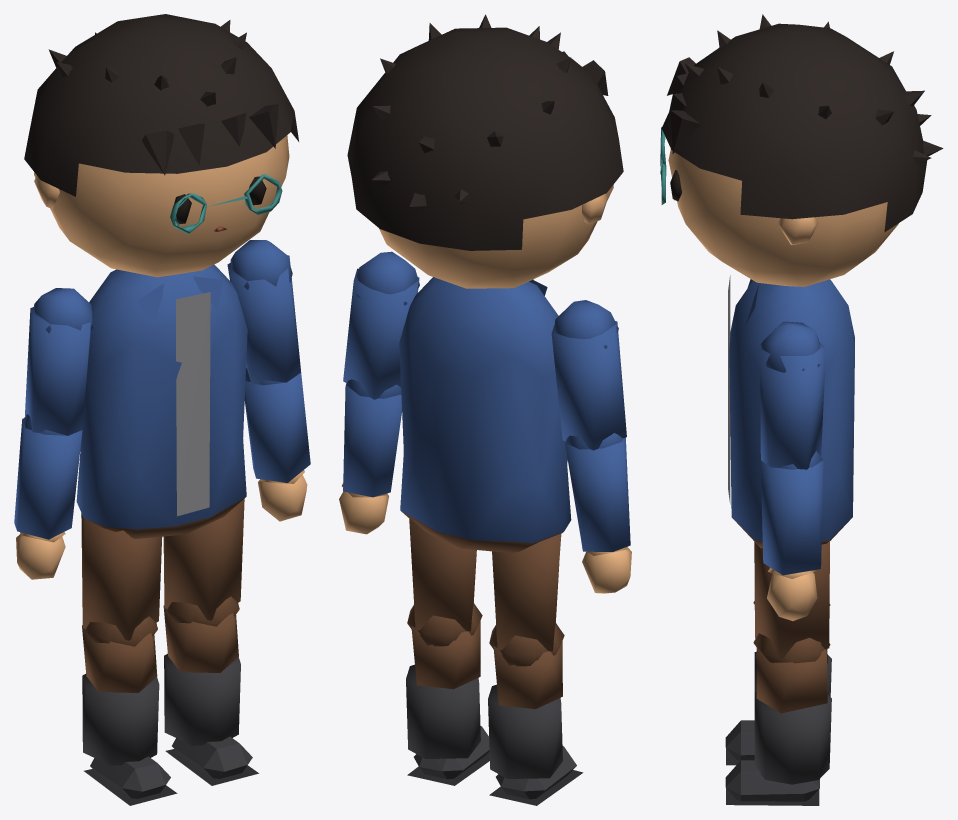
The model's file is era5_engineer.glb.
3 views of the same model, side by side, from view 1: azimuth 30°, elevation 25°; view 2: azimuth 150°, elevation 25°; view 3: azimuth 270°, elevation 25° (orthographic).
Parts seen in each view (by area): view 1: head, body, shin_R, shin_L, arm_R, leg_R, forearm_R, arm_L, leg_L, forearm_L; view 2: head, body, shin_R, shin_L, arm_R, arm_L, forearm_R, leg_R, forearm_L, leg_L; view 3: head, body, shin_L, arm_L, forearm_L, leg_L, shin_R.
Boxes of the visible parts, left/top/right/bottom form: head: left=24, top=14, right=298, bottom=277; body: left=76, top=264, right=247, bottom=538; shin_R: left=82, top=618, right=177, bottom=805; shin_L: left=163, top=598, right=258, bottom=785; arm_R: left=23, top=288, right=92, bottom=435; leg_R: left=81, top=513, right=162, bottom=643; forearm_R: left=14, top=418, right=82, bottom=579; arm_L: left=227, top=240, right=300, bottom=385; leg_L: left=163, top=498, right=244, bottom=623; forearm_L: left=244, top=372, right=310, bottom=521; head: left=347, top=14, right=623, bottom=288; body: left=399, top=277, right=571, bottom=552; shin_R: left=488, top=623, right=583, bottom=805; shin_L: left=406, top=602, right=489, bottom=785; arm_R: left=551, top=300, right=626, bottom=450; arm_L: left=343, top=251, right=419, bottom=399; forearm_R: left=565, top=437, right=631, bottom=593; leg_R: left=489, top=533, right=564, bottom=666; forearm_L: left=339, top=383, right=401, bottom=534; leg_L: left=407, top=517, right=482, bottom=646; head: left=660, top=14, right=943, bottom=286; body: left=728, top=275, right=854, bottom=548; shin_L: left=725, top=640, right=831, bottom=805; arm_L: left=760, top=321, right=825, bottom=469; forearm_L: left=761, top=460, right=823, bottom=620; leg_L: left=753, top=540, right=830, bottom=663; shin_R: left=725, top=602, right=831, bottom=765.
Size of the model in its own units: 0.6013 by 1.48 by 0.5118.
